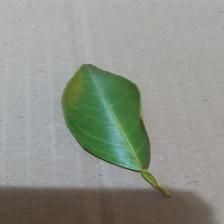greening: (57, 60, 175, 201)
